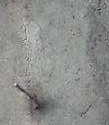Exposed reinforcement: (13, 82, 34, 101)
